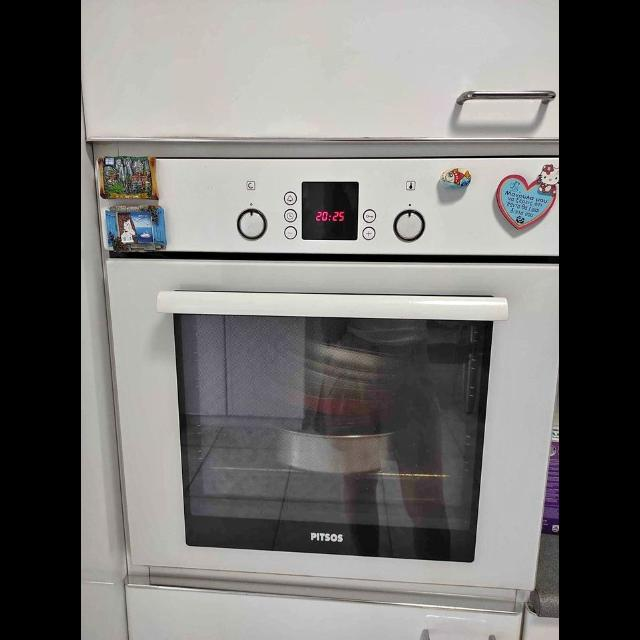Oven: (90, 138, 560, 596)
